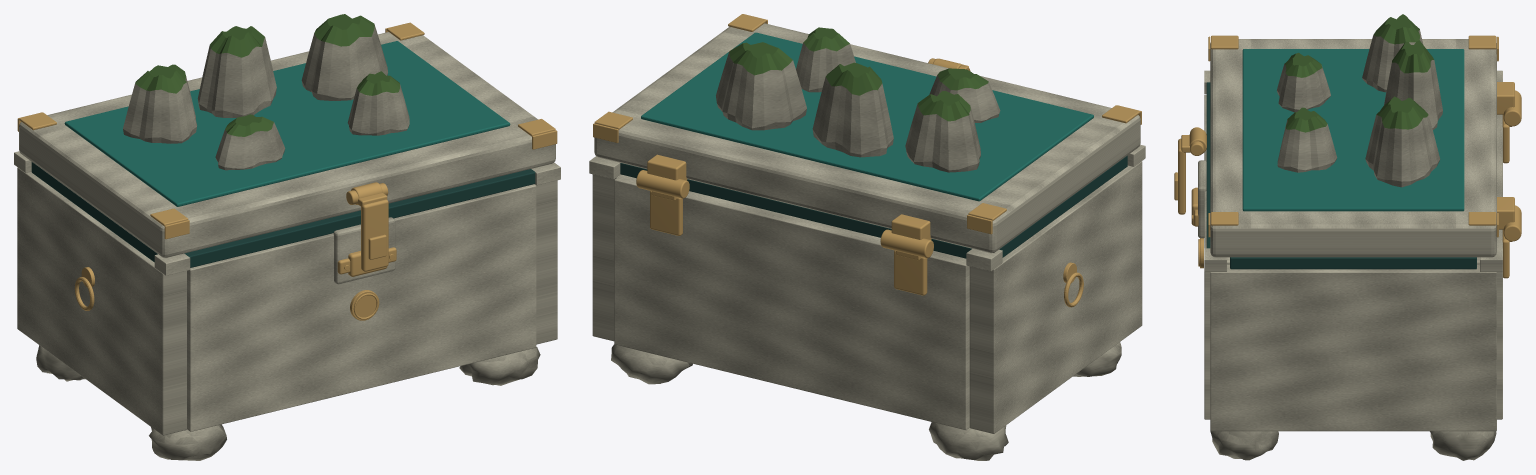
Rendered from vietnam.glb.
The picture shows the model from 3 angles, left to right: view 1: azimuth 30°, elevation 25°; view 2: azimuth 150°, elevation 25°; view 3: azimuth 270°, elevation 25°; orthographic projection. The views are drawn at different scales.
Visible parts, largest first — view 1: Limestone / long wall, Lid / polished slab, Limestone / end wall, Bay / emerald water, Karst island / 1, Karst island / 2, Mineral seam / long, Karst island / 0, Limestone / end wall.001, Karst island / 4, Karst island / 3, Granite foot (+7 smaller); view 2: Limestone / long wall.001, Lid / polished slab, Limestone / end wall, Bay / emerald water, Karst island / 2, Karst island / 1, Karst island / 0, Limestone / end wall.001, Mineral seam / long.001, Karst island / 4, Granite foot.001, Karst island / 3 (+11 smaller); view 3: Limestone / end wall.001, Lid / polished slab, Bay / emerald water, Karst island / 2, Mineral seam / side.001, Karst island / 1, Karst island / 4, Karst island / 3, Karst island / 0, Granite foot.002, Granite foot.003, Limestone / long wall.001 (+14 smaller).
Boxes of the visible parts, box(x1,y1,x2,y2) form: Limestone / long wall: box(187, 184, 536, 431); Lid / polished slab: box(19, 32, 555, 257); Limestone / end wall: box(17, 167, 186, 435); Bay / emerald water: box(64, 41, 510, 206); Karst island / 1: box(197, 26, 276, 117); Karst island / 2: box(301, 14, 387, 100); Mineral seam / long: box(184, 169, 535, 267); Karst island / 0: box(123, 64, 197, 143); Limestone / end wall.001: box(534, 180, 557, 344); Karst island / 4: box(347, 71, 409, 135); Karst island / 3: box(215, 114, 285, 170); Granite foot: box(149, 424, 226, 460); Limestone / long wall.001: box(614, 174, 969, 430); Lid / polished slab: box(594, 23, 1140, 253); Limestone / end wall: box(969, 161, 1142, 433); Bay / emerald water: box(641, 32, 1093, 201); Karst island / 2: box(716, 42, 806, 130); Karst island / 1: box(812, 62, 893, 157); Karst island / 0: box(905, 91, 980, 172); Limestone / end wall.001: box(592, 174, 620, 341); Mineral seam / long.001: box(620, 163, 971, 258); Karst island / 4: box(796, 27, 855, 92); Granite foot.001: box(929, 422, 1008, 460); Karst island / 3: box(929, 68, 1000, 122); Limestone / end wall.001: box(1210, 264, 1496, 431); Lid / polished slab: box(1210, 39, 1496, 257); Bay / emerald water: box(1242, 49, 1464, 211); Karst island / 2: box(1365, 96, 1440, 187); Mineral seam / side.001: box(1230, 257, 1476, 269); Karst island / 1: box(1384, 40, 1442, 129); Karst island / 4: box(1277, 107, 1337, 172); Karst island / 3: box(1277, 52, 1330, 112); Karst island / 0: box(1362, 14, 1423, 92); Granite foot.002: box(1210, 431, 1278, 460); Granite foot.003: box(1430, 431, 1496, 460); Limestone / long wall.001: box(1497, 114, 1502, 419).
Bounding box in the file's own units: 3.79 × 2.99 × 2.88.
6 materials, 2 textured.
